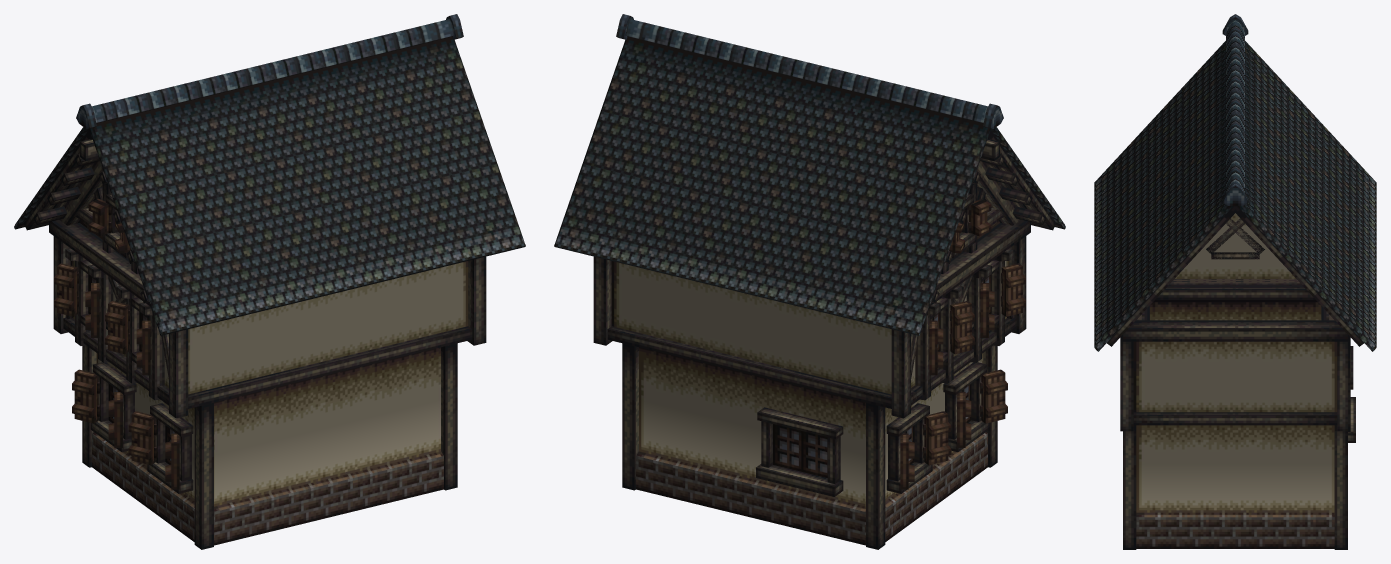
The model's file is EnvBdgMD_Mount_A_Outdoor_House_2F.FBX.
3 views of the same model, side by side, from view 1: azimuth 30°, elevation 25°; view 2: azimuth 150°, elevation 25°; view 3: azimuth 270°, elevation 25° (orthographic). The views are drawn at different scales.
Parts seen in each view (by area): view 1: EnvBdgMD_Mount_A_Outdoor_House_2F; view 2: EnvBdgMD_Mount_A_Outdoor_House_2F; view 3: EnvBdgMD_Mount_A_Outdoor_House_2F.
Part boxes in pixels (x1,y1,x2,y2): EnvBdgMD_Mount_A_Outdoor_House_2F: (14,14,525,549); EnvBdgMD_Mount_A_Outdoor_House_2F: (554,14,1065,549); EnvBdgMD_Mount_A_Outdoor_House_2F: (1094,14,1376,549).
Size of the model in its own units: 760 by 806 by 527.
1 material, 1 textured.
